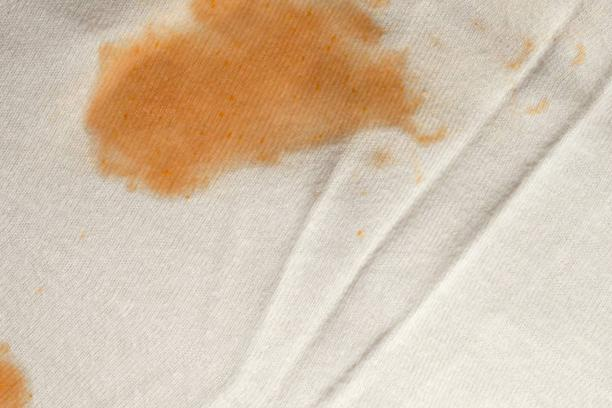stain: (79, 0, 458, 207), (0, 340, 47, 408), (504, 35, 539, 75), (567, 35, 591, 75), (520, 90, 551, 118), (469, 13, 490, 40)
